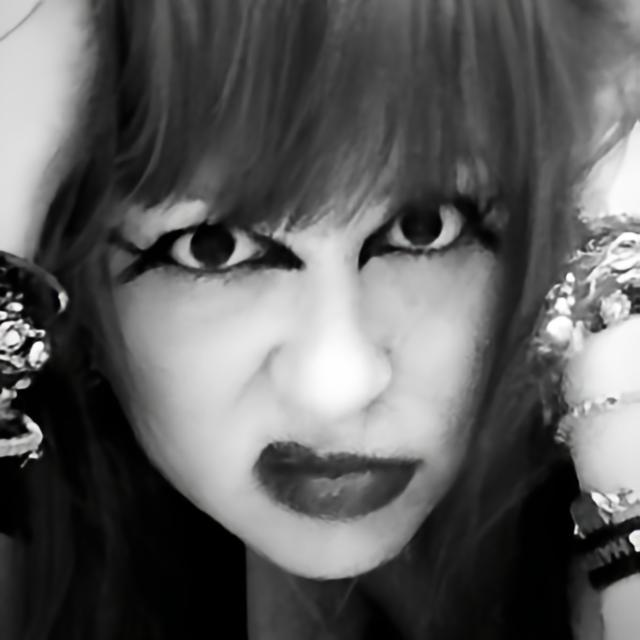disgust: (82, 0, 524, 579)
